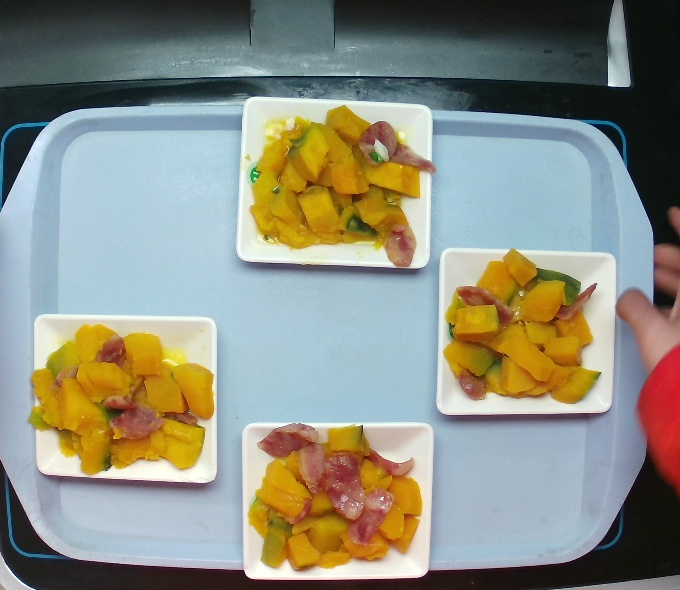wcq-NanGuaChaoXiangChang: (17, 321, 222, 482), (248, 411, 425, 588), (450, 246, 602, 416), (263, 111, 418, 266)
